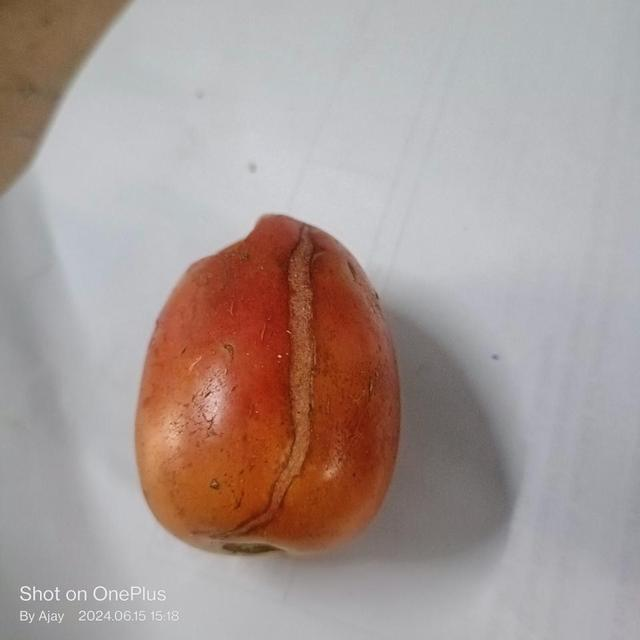Cracking Fruit: (91, 262, 310, 422)
